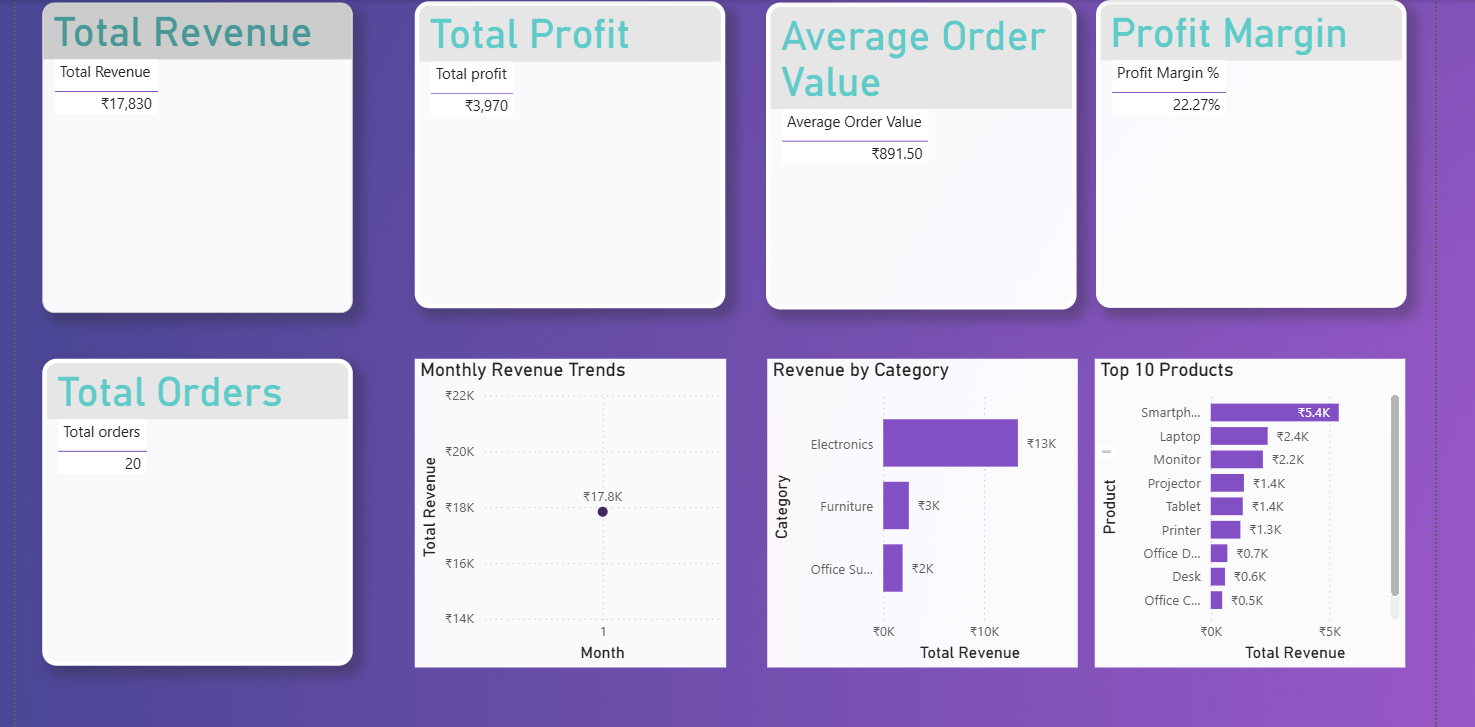

The dashboard page shown, as its layout file describes it:
{"tool":"powerbi","page":{"name":"Page 1","canvas":[1280,720],"ordinal":0},"visuals":[{"type":"tableEx","title":"Total Revenue","fields":{"Values":["Sheet1.Total Revenue"]},"box":[23.3,2.7,279.9,279.9],"z":0},{"type":"tableEx","title":"Total Profit","fields":{"Values":["Sheet1.Total profit"]},"box":[359.5,1.4,279.9,277.2],"z":1000},{"type":"tableEx","title":"Average Order Value","fields":{"Values":["Sheet1.Average Order Value"]},"box":[676.5,2.7,279.9,277.2],"z":1001},{"type":"tableEx","title":"Total Orders","fields":{"Values":["Sheet1.Total orders"]},"box":[23.3,323.8,279.9,277.2],"z":1003},{"type":"tableEx","title":"Profit Margin","fields":{"Values":["Sheet1.Profit Margin %"]},"box":[973.4,0,280,277.6],"z":1004},{"type":"lineChart","title":"Monthly Revenue Trends","fields":{"Category":["Sheet1.Month"],"Y":["Sheet1.Total Revenue"]},"box":[359.1,323,280.5,278.4],"z":1005},{"type":"clusteredBarChart","title":"Revenue by Category","fields":{"Category":["Sheet1.Category"],"Y":["Sheet1.Total Revenue"]},"box":[677,323,280,278],"z":1006},{"type":"barChart","title":"Top 10 Products","fields":{"Category":["Sheet1.Product"],"Y":["Sheet1.Total Revenue"]},"box":[973,323,280,278],"z":1007},{"type":"textbox","box":[973.4,401.1,18.3,12.2],"z":1008}]}

Visuals, with their boxes on the page's 1280x720 design canvas (x1, y1, x2, y2). These are canvas units, not pixel positions in the 1475x727 screenshot, which may show the page scaled, cropped or inside an application window:
"Total Revenue" tableEx: BBox(23, 3, 303, 283)
"Total Profit" tableEx: BBox(360, 1, 639, 279)
"Average Order Value" tableEx: BBox(676, 3, 956, 280)
"Total Orders" tableEx: BBox(23, 324, 303, 601)
"Profit Margin" tableEx: BBox(973, 0, 1253, 278)
"Monthly Revenue Trends" lineChart: BBox(359, 323, 640, 601)
"Revenue by Category" clusteredBarChart: BBox(677, 323, 957, 601)
"Top 10 Products" barChart: BBox(973, 323, 1253, 601)
textbox: BBox(973, 401, 992, 413)
